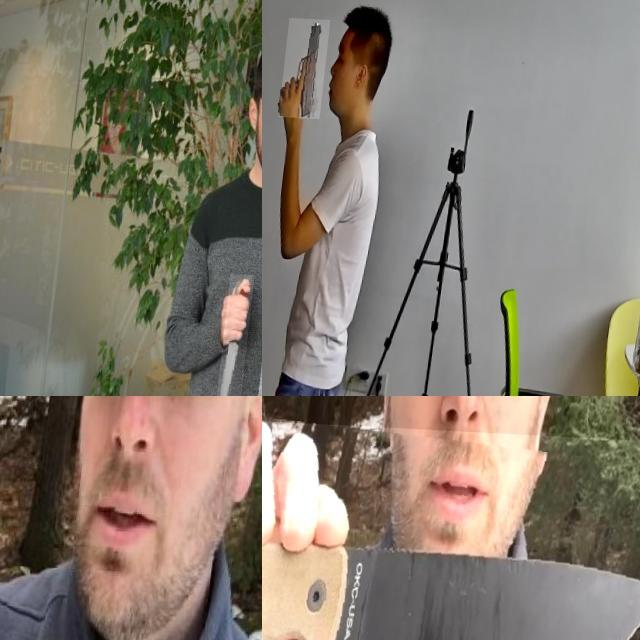-: (262, 415, 640, 640), (0, 396, 112, 640), (224, 269, 261, 396)
gun-knife-thesis - v11 Yolov5 augmented: (284, 17, 334, 118)
